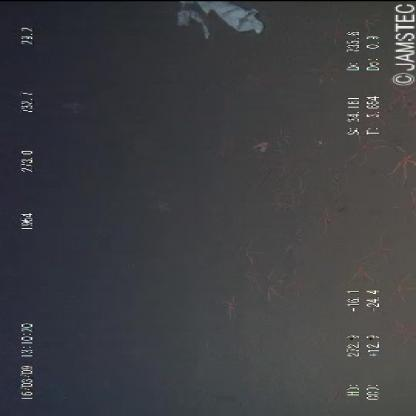Bio: (344, 236, 394, 284), (339, 132, 393, 170), (308, 201, 348, 235), (378, 152, 414, 184)
Rác: (166, 1, 268, 40)
